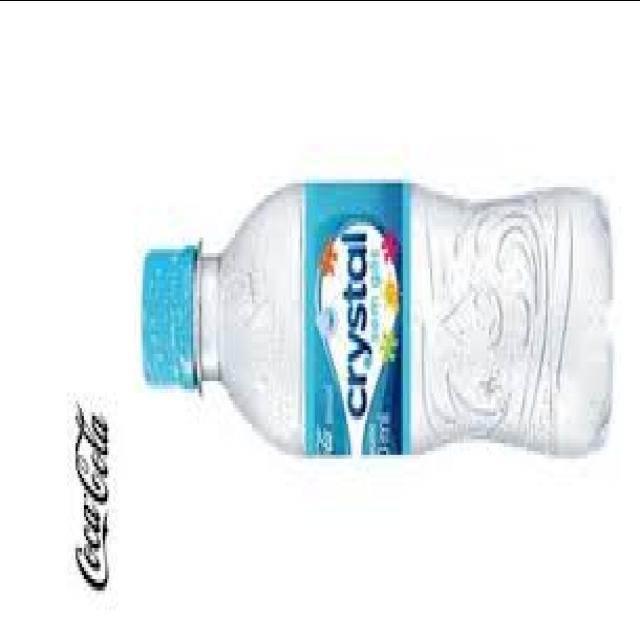bottom: (544, 152, 622, 478)
cap: (129, 216, 216, 418)
